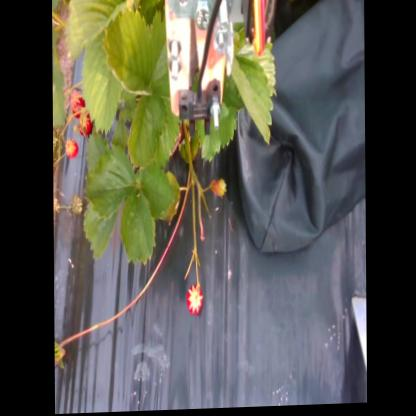ripe: (185, 282, 205, 317), (70, 91, 87, 120), (78, 114, 96, 138), (64, 142, 79, 159)
